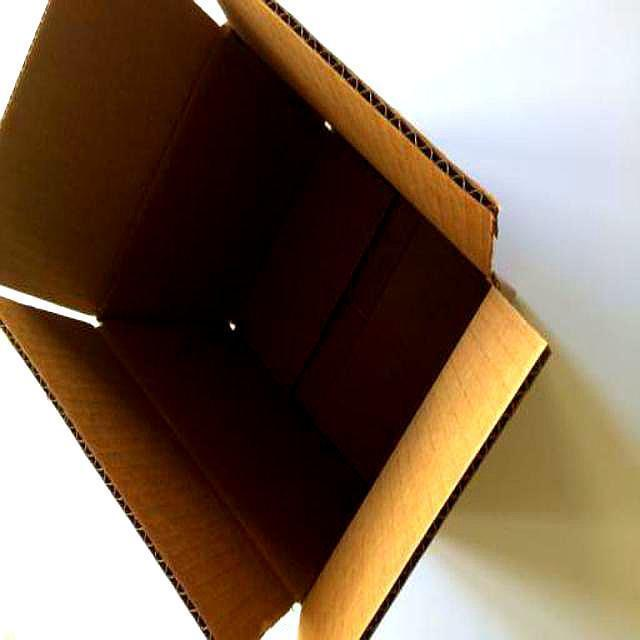Biodegradable: (1, 1, 553, 640)
